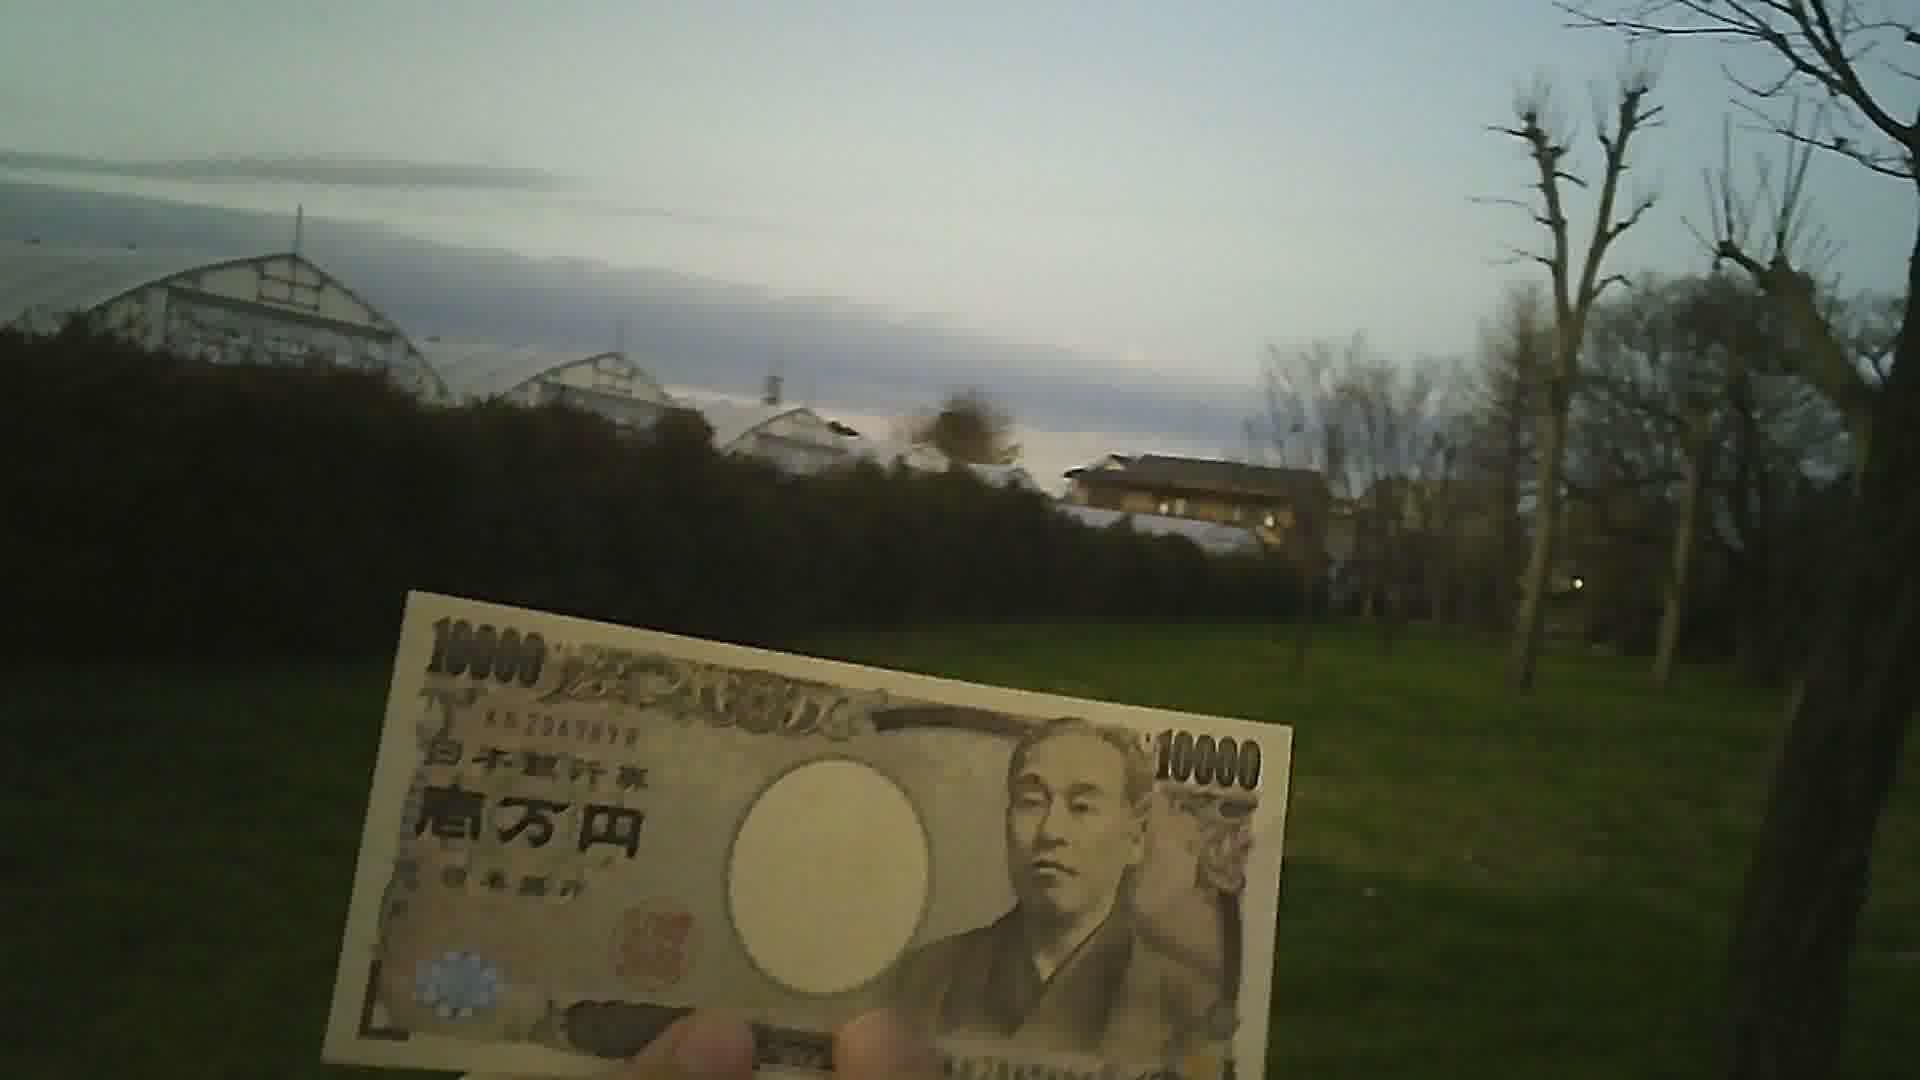10,000 Yen: (293, 580, 1299, 1079)
